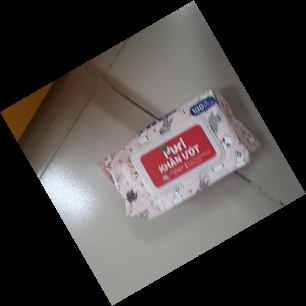Puri hong: (92, 86, 263, 222)
